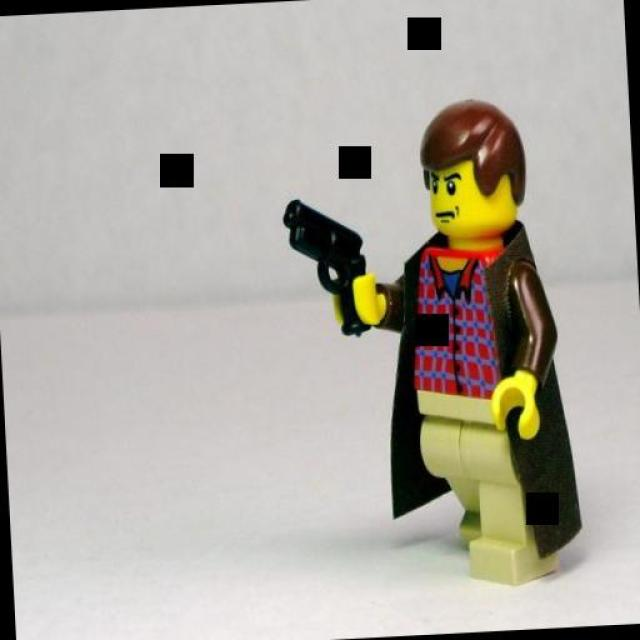gun: (275, 189, 373, 346)
